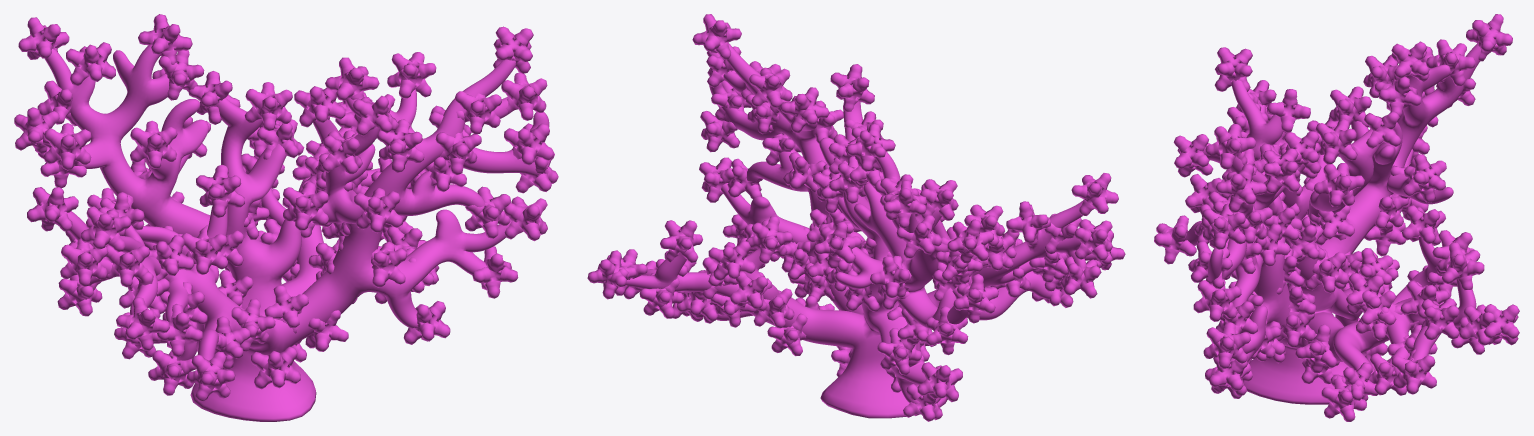
The model's file is coraltree.glb.
3 renders of one model, left to right at view 1: azimuth 30°, elevation 25°; view 2: azimuth 150°, elevation 25°; view 3: azimuth 270°, elevation 25°, orthographic. The views are drawn at different scales.
Parts seen in each view (by area): view 1: arvore coral; view 2: arvore coral; view 3: arvore coral.
Boxes of the visible parts, x1,y1,x2,y2 form: arvore coral: (14, 14, 558, 421); arvore coral: (587, 14, 1125, 421); arvore coral: (1154, 14, 1519, 421).
Bounding box in the file's own units: 4.87 × 3.38 × 3.47.
